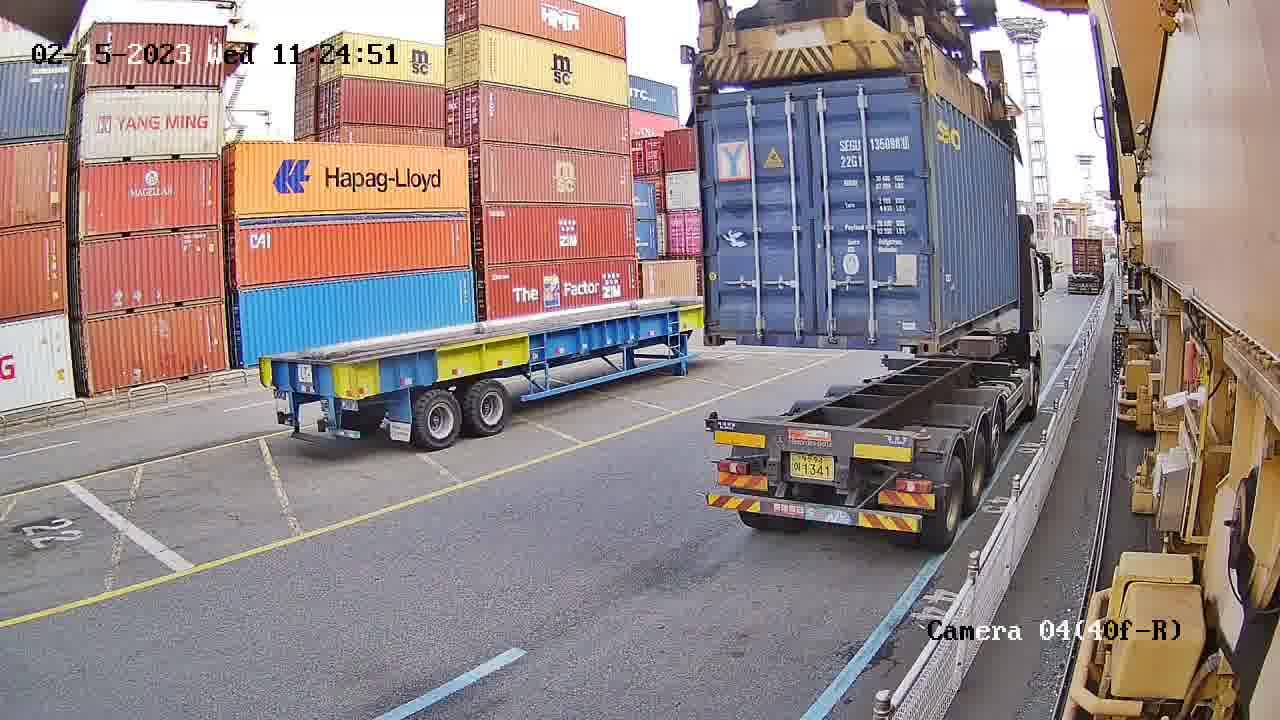Chassis: (717, 422, 916, 484)
Cone: (913, 428, 935, 449), (705, 410, 721, 431)
Hole_L: (703, 305, 743, 346), (936, 305, 962, 356)
Hole_R: (892, 309, 937, 356)
Tire: (937, 458, 966, 550), (968, 434, 991, 506), (990, 404, 1003, 472)
